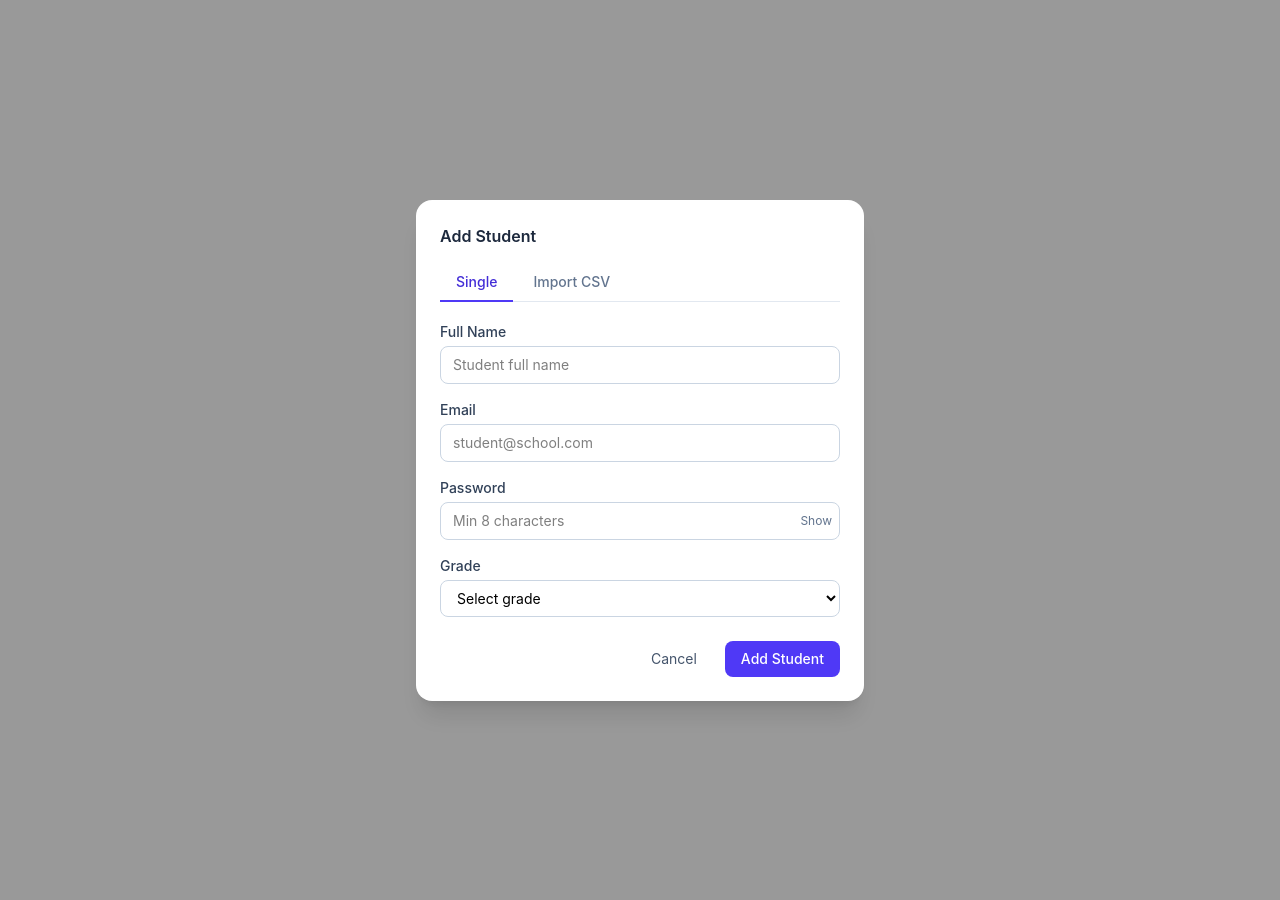
Test case: AddStudentModal — CSV tab › shows file input on CSV tab
Click the tab "Import CSV" at (572, 282), box [517,264,626,302]
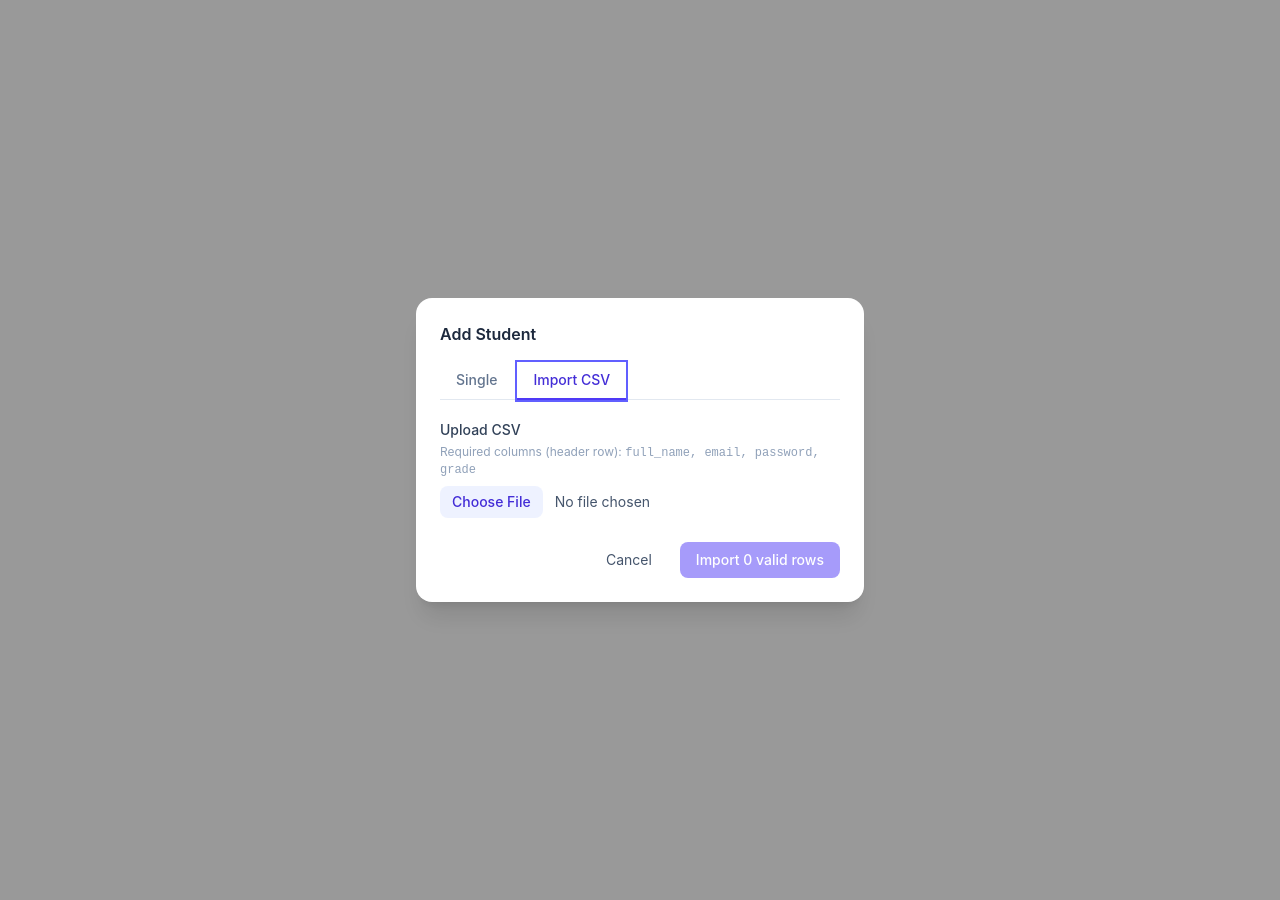
Check: the file field labelled "Upload CSV" is shown, box [440,486,840,518]
